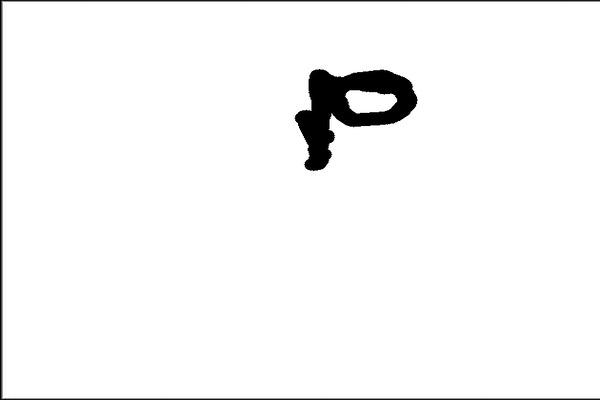P: (278, 63, 421, 182)
